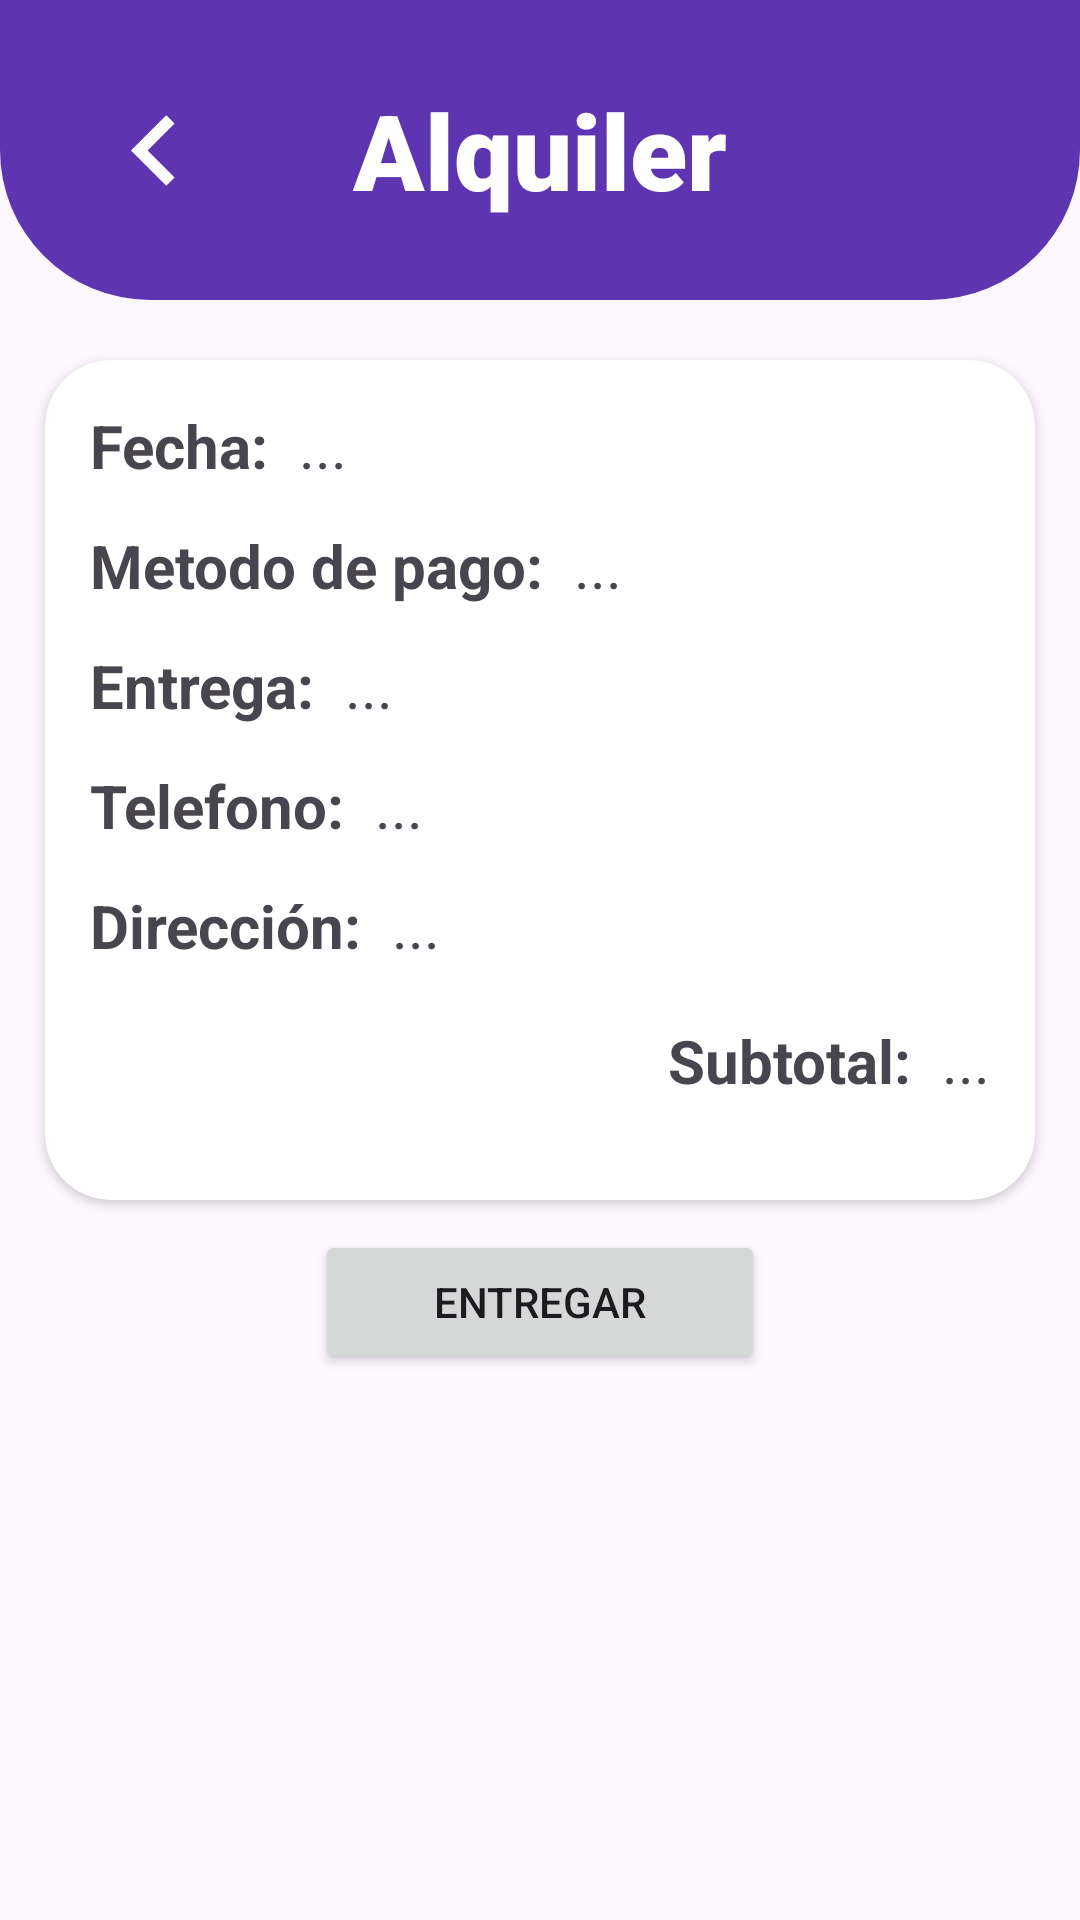

Screen size 1080*1920. Icon name, then its center in pixels as [x,y]:
back: [153,150]
